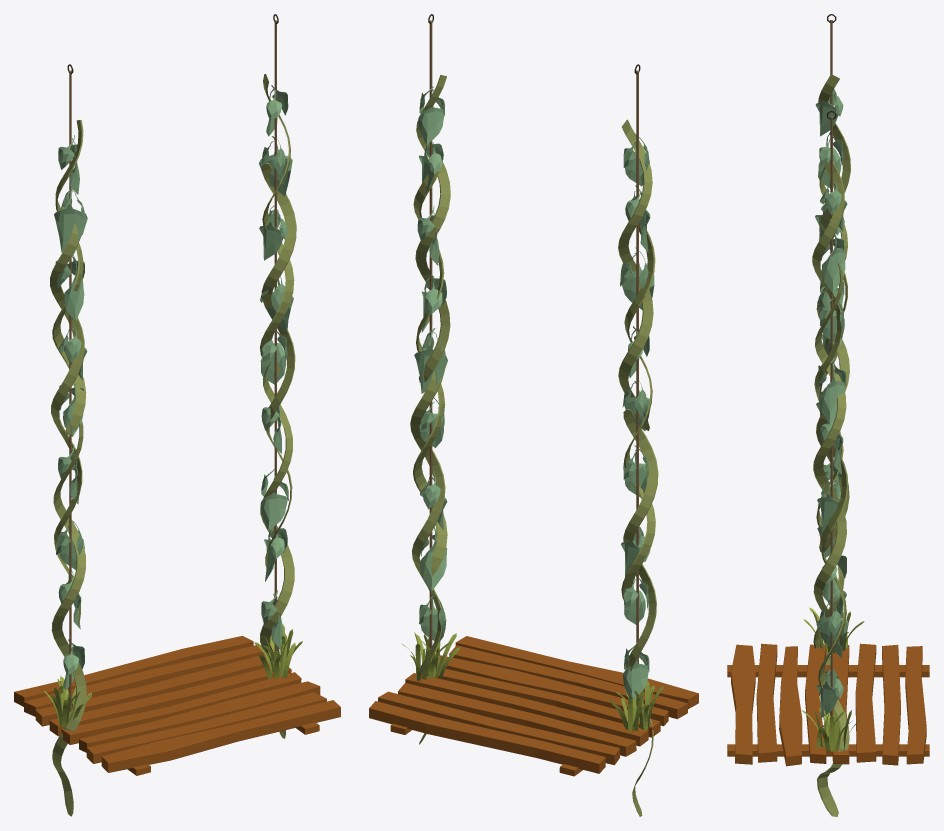
Rendered from WoodPL (1).fbx.
The picture shows the model from 3 angles, left to right: view 1: azimuth 30°, elevation 25°; view 2: azimuth 150°, elevation 25°; view 3: azimuth 270°, elevation 25°; orthographic projection. The views are drawn at different scales.
Parts seen in each view (by area): view 1: Wood_PL; view 2: Wood_PL; view 3: Wood_PL.
Boxes of the visible parts, x1,y1,x2,y2 form: Wood_PL: (14,14,340,816); Wood_PL: (369,14,698,816); Wood_PL: (727,14,929,816).
Size of the model in its own units: 227 by 664 by 168.
